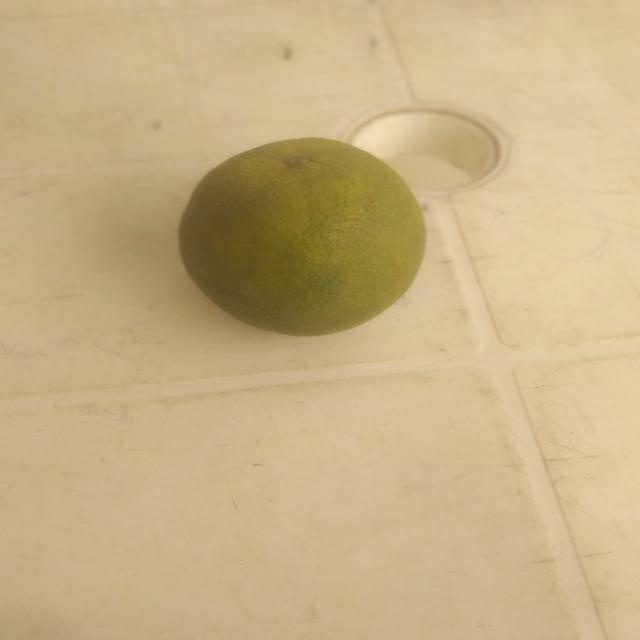agrume: (170, 132, 447, 340)
